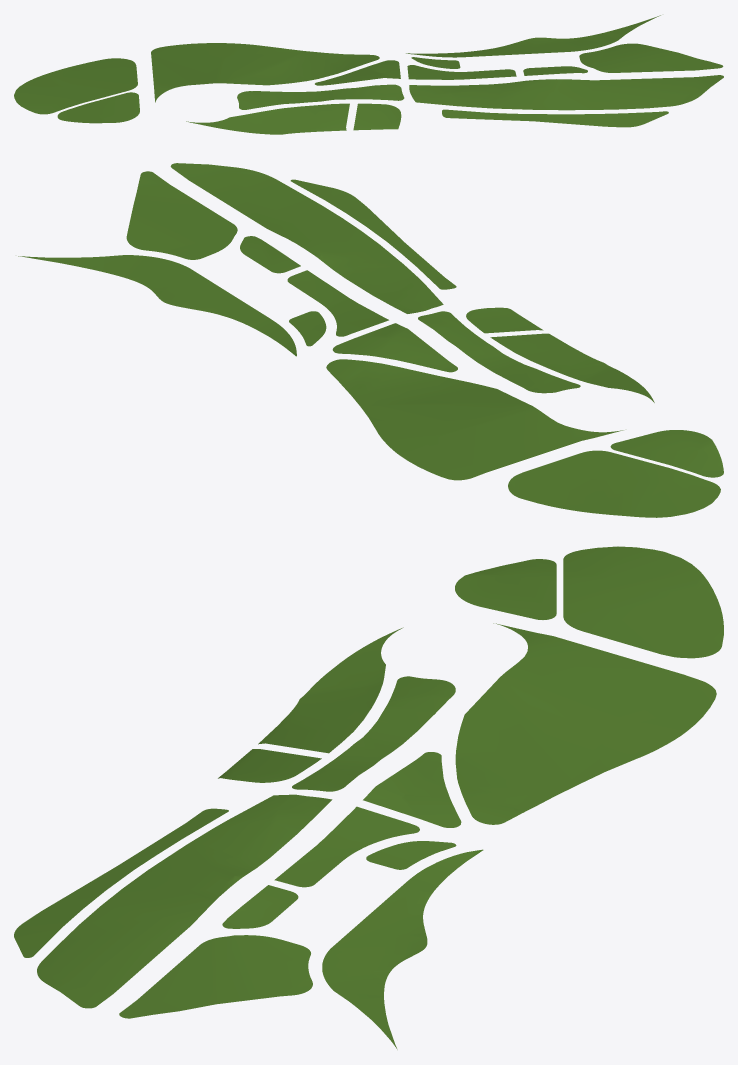
Rendered from 07_Yacht_Club_01.glb.
3 views of the same model, one above another, from view 1: azimuth 30°, elevation 25°; view 2: azimuth 150°, elevation 25°; view 3: azimuth 270°, elevation 25° (orthographic). The views are drawn at different scales.
Visible parts, largest first — view 1: 07_Yacht_Club_01; view 2: 07_Yacht_Club_01; view 3: 07_Yacht_Club_01.
Part boxes in pixels (<box>): 07_Yacht_Club_01: <box>14,15,723,134</box>; 07_Yacht_Club_01: <box>18,163,723,517</box>; 07_Yacht_Club_01: <box>14,546,723,1049</box>.
Size of the model in its own units: 256 by 4.5 by 154.
